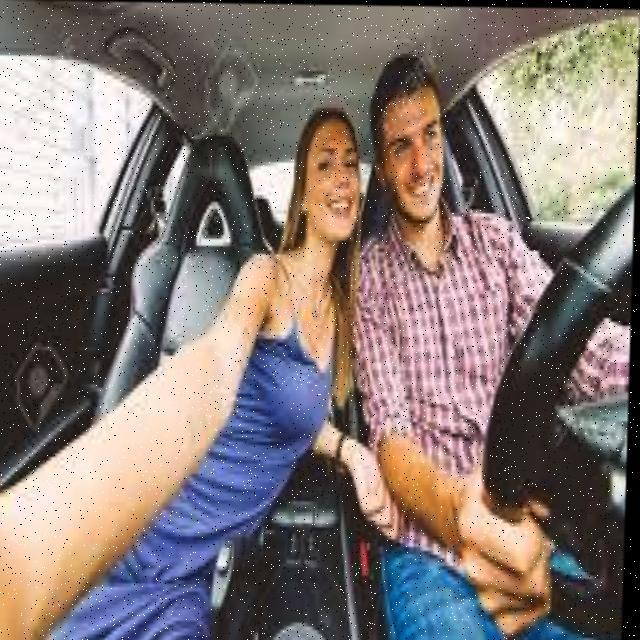noSeatbelt: (193, 87, 368, 564), (348, 170, 552, 560)
